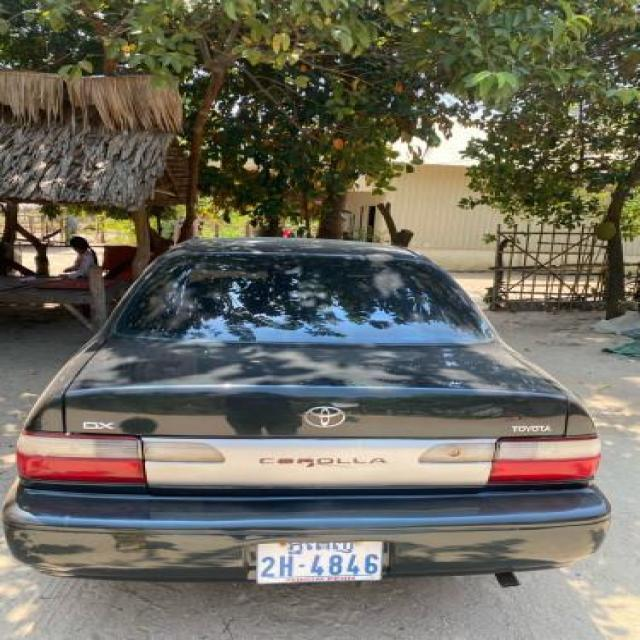Phnom_Penh: (285, 539, 360, 556)
